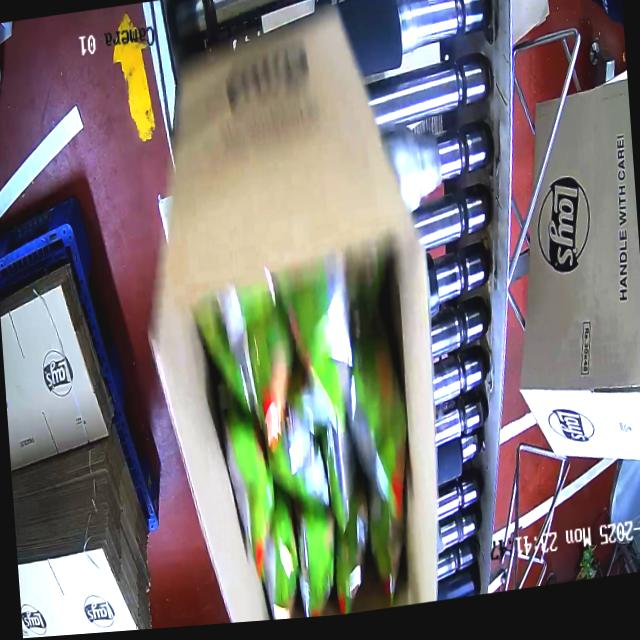YOGURT_HERB: (191, 257, 418, 626)
